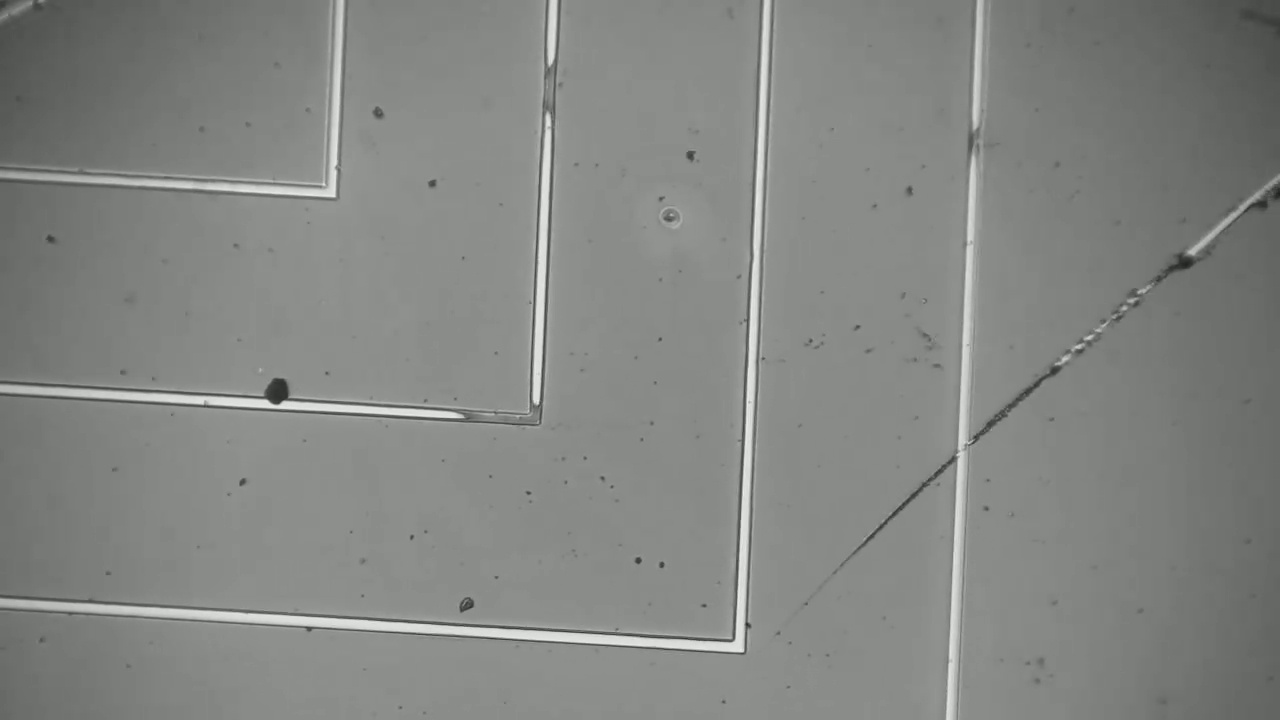edge_bite: (317, 158, 344, 176)
gray_line: (448, 405, 557, 431), (533, 46, 564, 130), (955, 115, 989, 169), (522, 389, 549, 435)
scratch: (791, 177, 1275, 611)
stains_enbedded: (254, 370, 296, 420)
